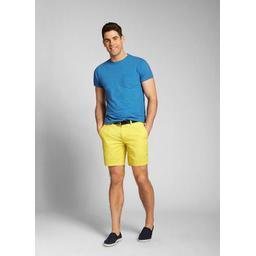Tshirt: (93, 54, 155, 126)
short: (98, 120, 148, 166)
